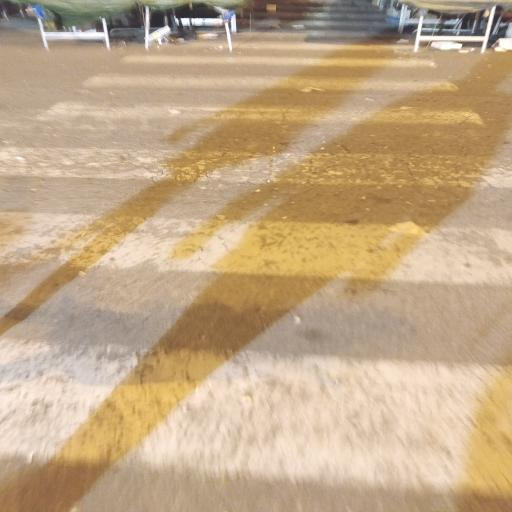crosswalk: (0, 67, 501, 138)
